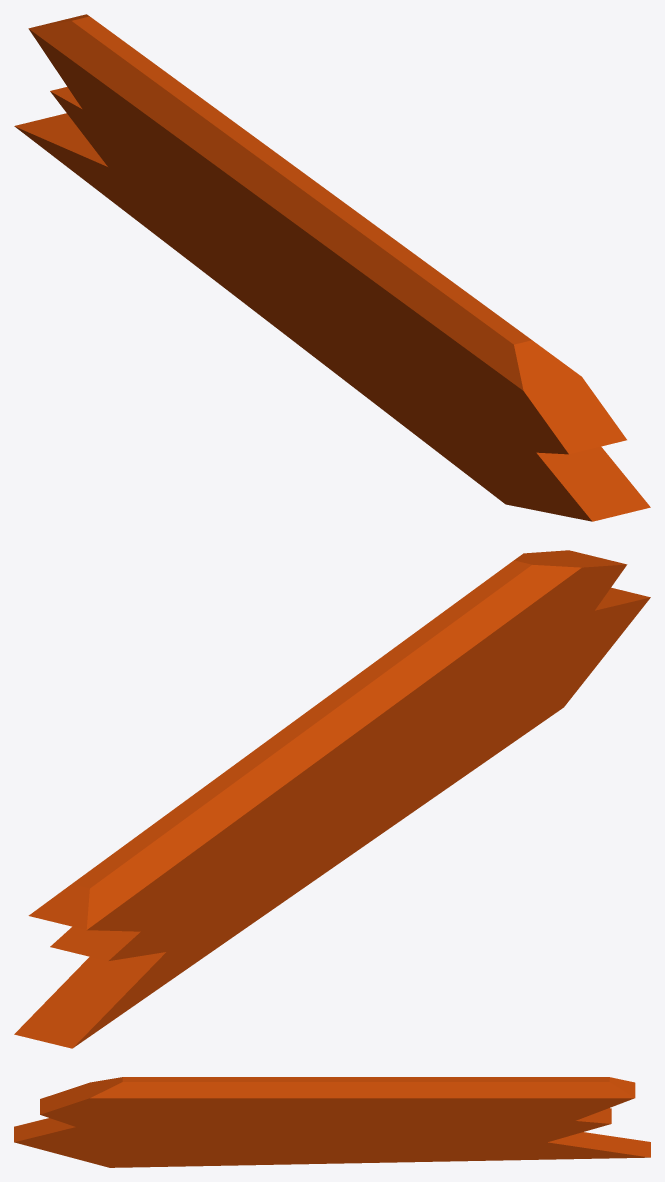
The model's file is scrap.glb.
The picture shows the model from 3 angles, top to bottom: view 1: azimuth 30°, elevation 25°; view 2: azimuth 150°, elevation 25°; view 3: azimuth 270°, elevation 25°; orthographic projection. The views are drawn at different scales.
Parts seen in each view (by area): view 1: Box.002; view 2: Box.002; view 3: Box.002.
Boxes of the visible parts, bbox=[...] form: Box.002: bbox=[14, 14, 650, 521]; Box.002: bbox=[14, 550, 650, 1048]; Box.002: bbox=[14, 1077, 650, 1167].
Bounding box in the file's own units: 0.0753 × 0.1803 × 1.29.
